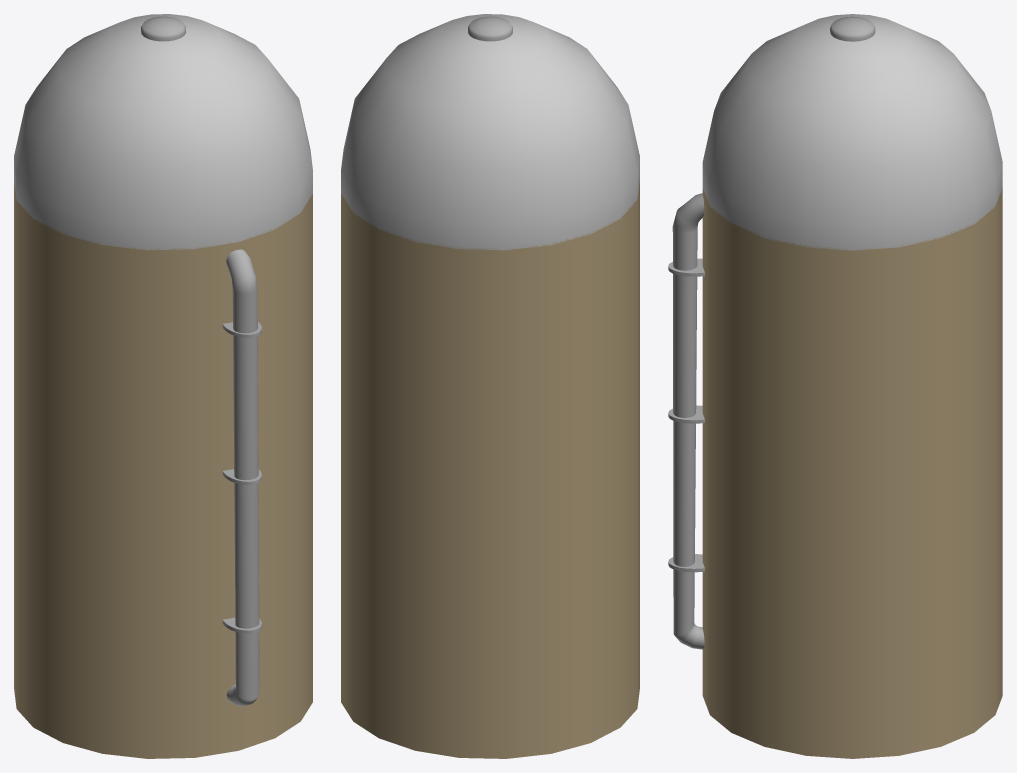
The model's file is Silo.fbx.
3 views of the same model, side by side, from view 1: azimuth 30°, elevation 25°; view 2: azimuth 150°, elevation 25°; view 3: azimuth 270°, elevation 25° (orthographic).
Visible parts, largest first — view 1: pCylinder8; view 2: pCylinder8; view 3: pCylinder8.
Boxes of the visible parts, x1=… form: pCylinder8: x1=14, y1=14, x2=312, y2=758; pCylinder8: x1=341, y1=14, x2=639, y2=758; pCylinder8: x1=668, y1=14, x2=1002, y2=758.
Size of the model in its own units: 2 by 4.95 by 2.23.
